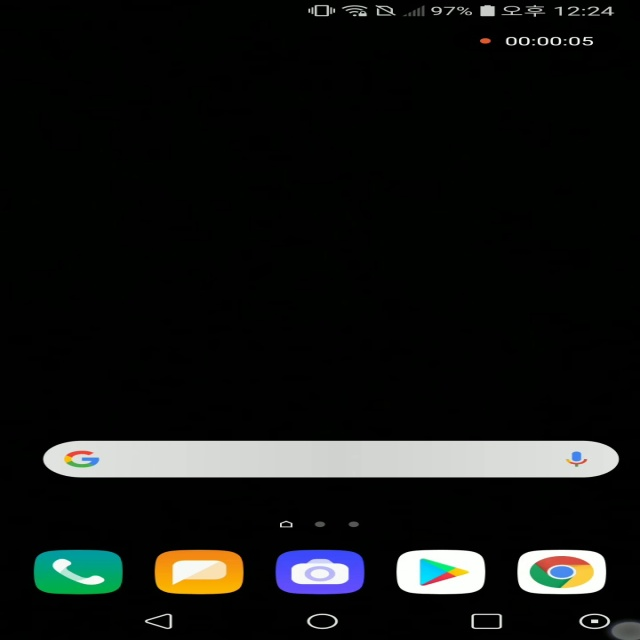Cursor: (602, 618, 640, 640)
